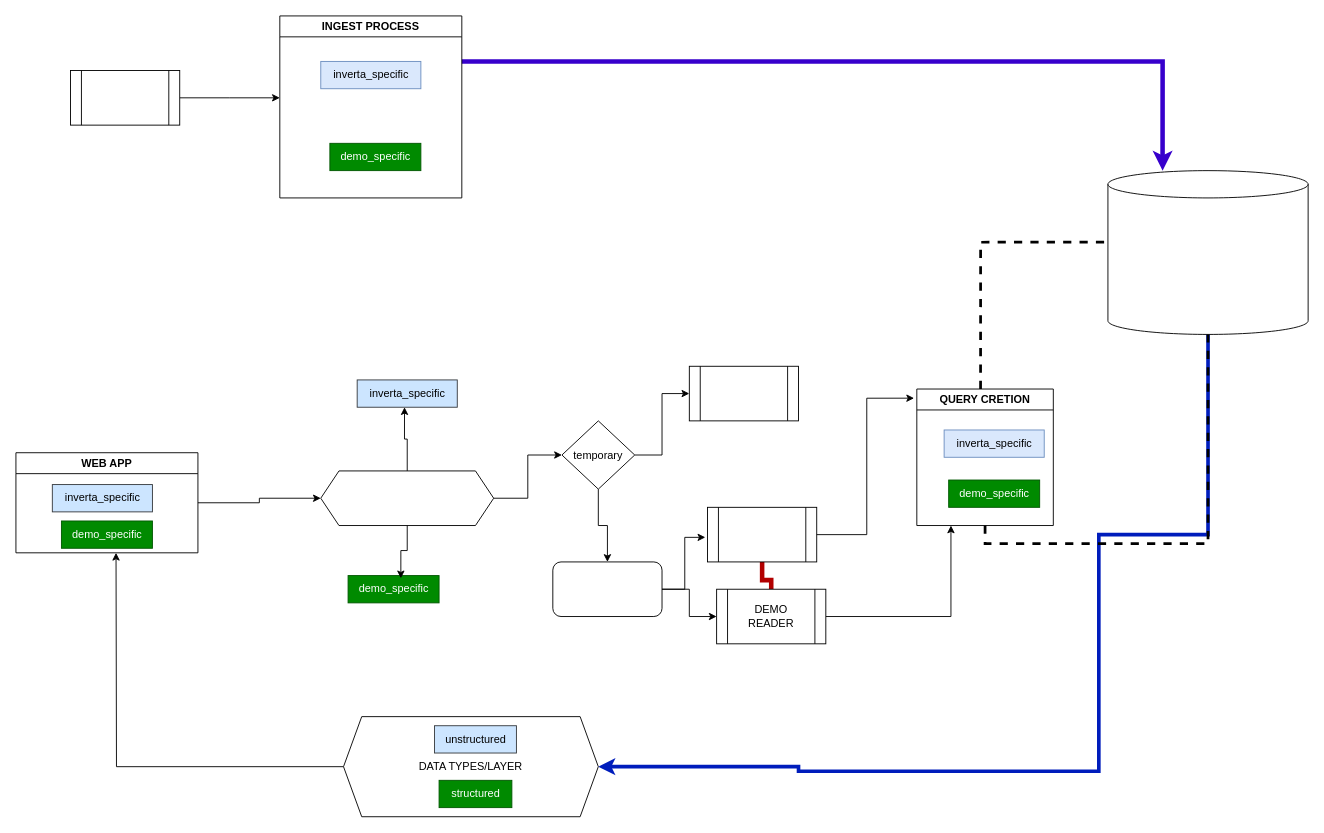
Image size: 1324x833. Some labels were removed from this diagram. The shapes that lost their labels are listed below. From the top down, each one's centre as x and y in pixels, then its label:
the point at 125,97: SNOWFLAKE READER
the point at 1207,252: MYSQL STRAPI
the point at 743,393: MIXED LOGIC REDADER
the point at 407,498: FILTERS/VALIDATION
the point at 762,534: INVERTA READER
the point at 607,589: MASTER READER
